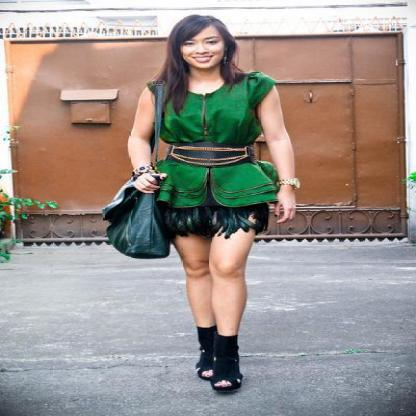bag: (87, 176, 178, 258)
shirt: (147, 76, 285, 206), (162, 136, 255, 166)
shoe: (196, 325, 242, 390)
skirt: (152, 194, 283, 240)
